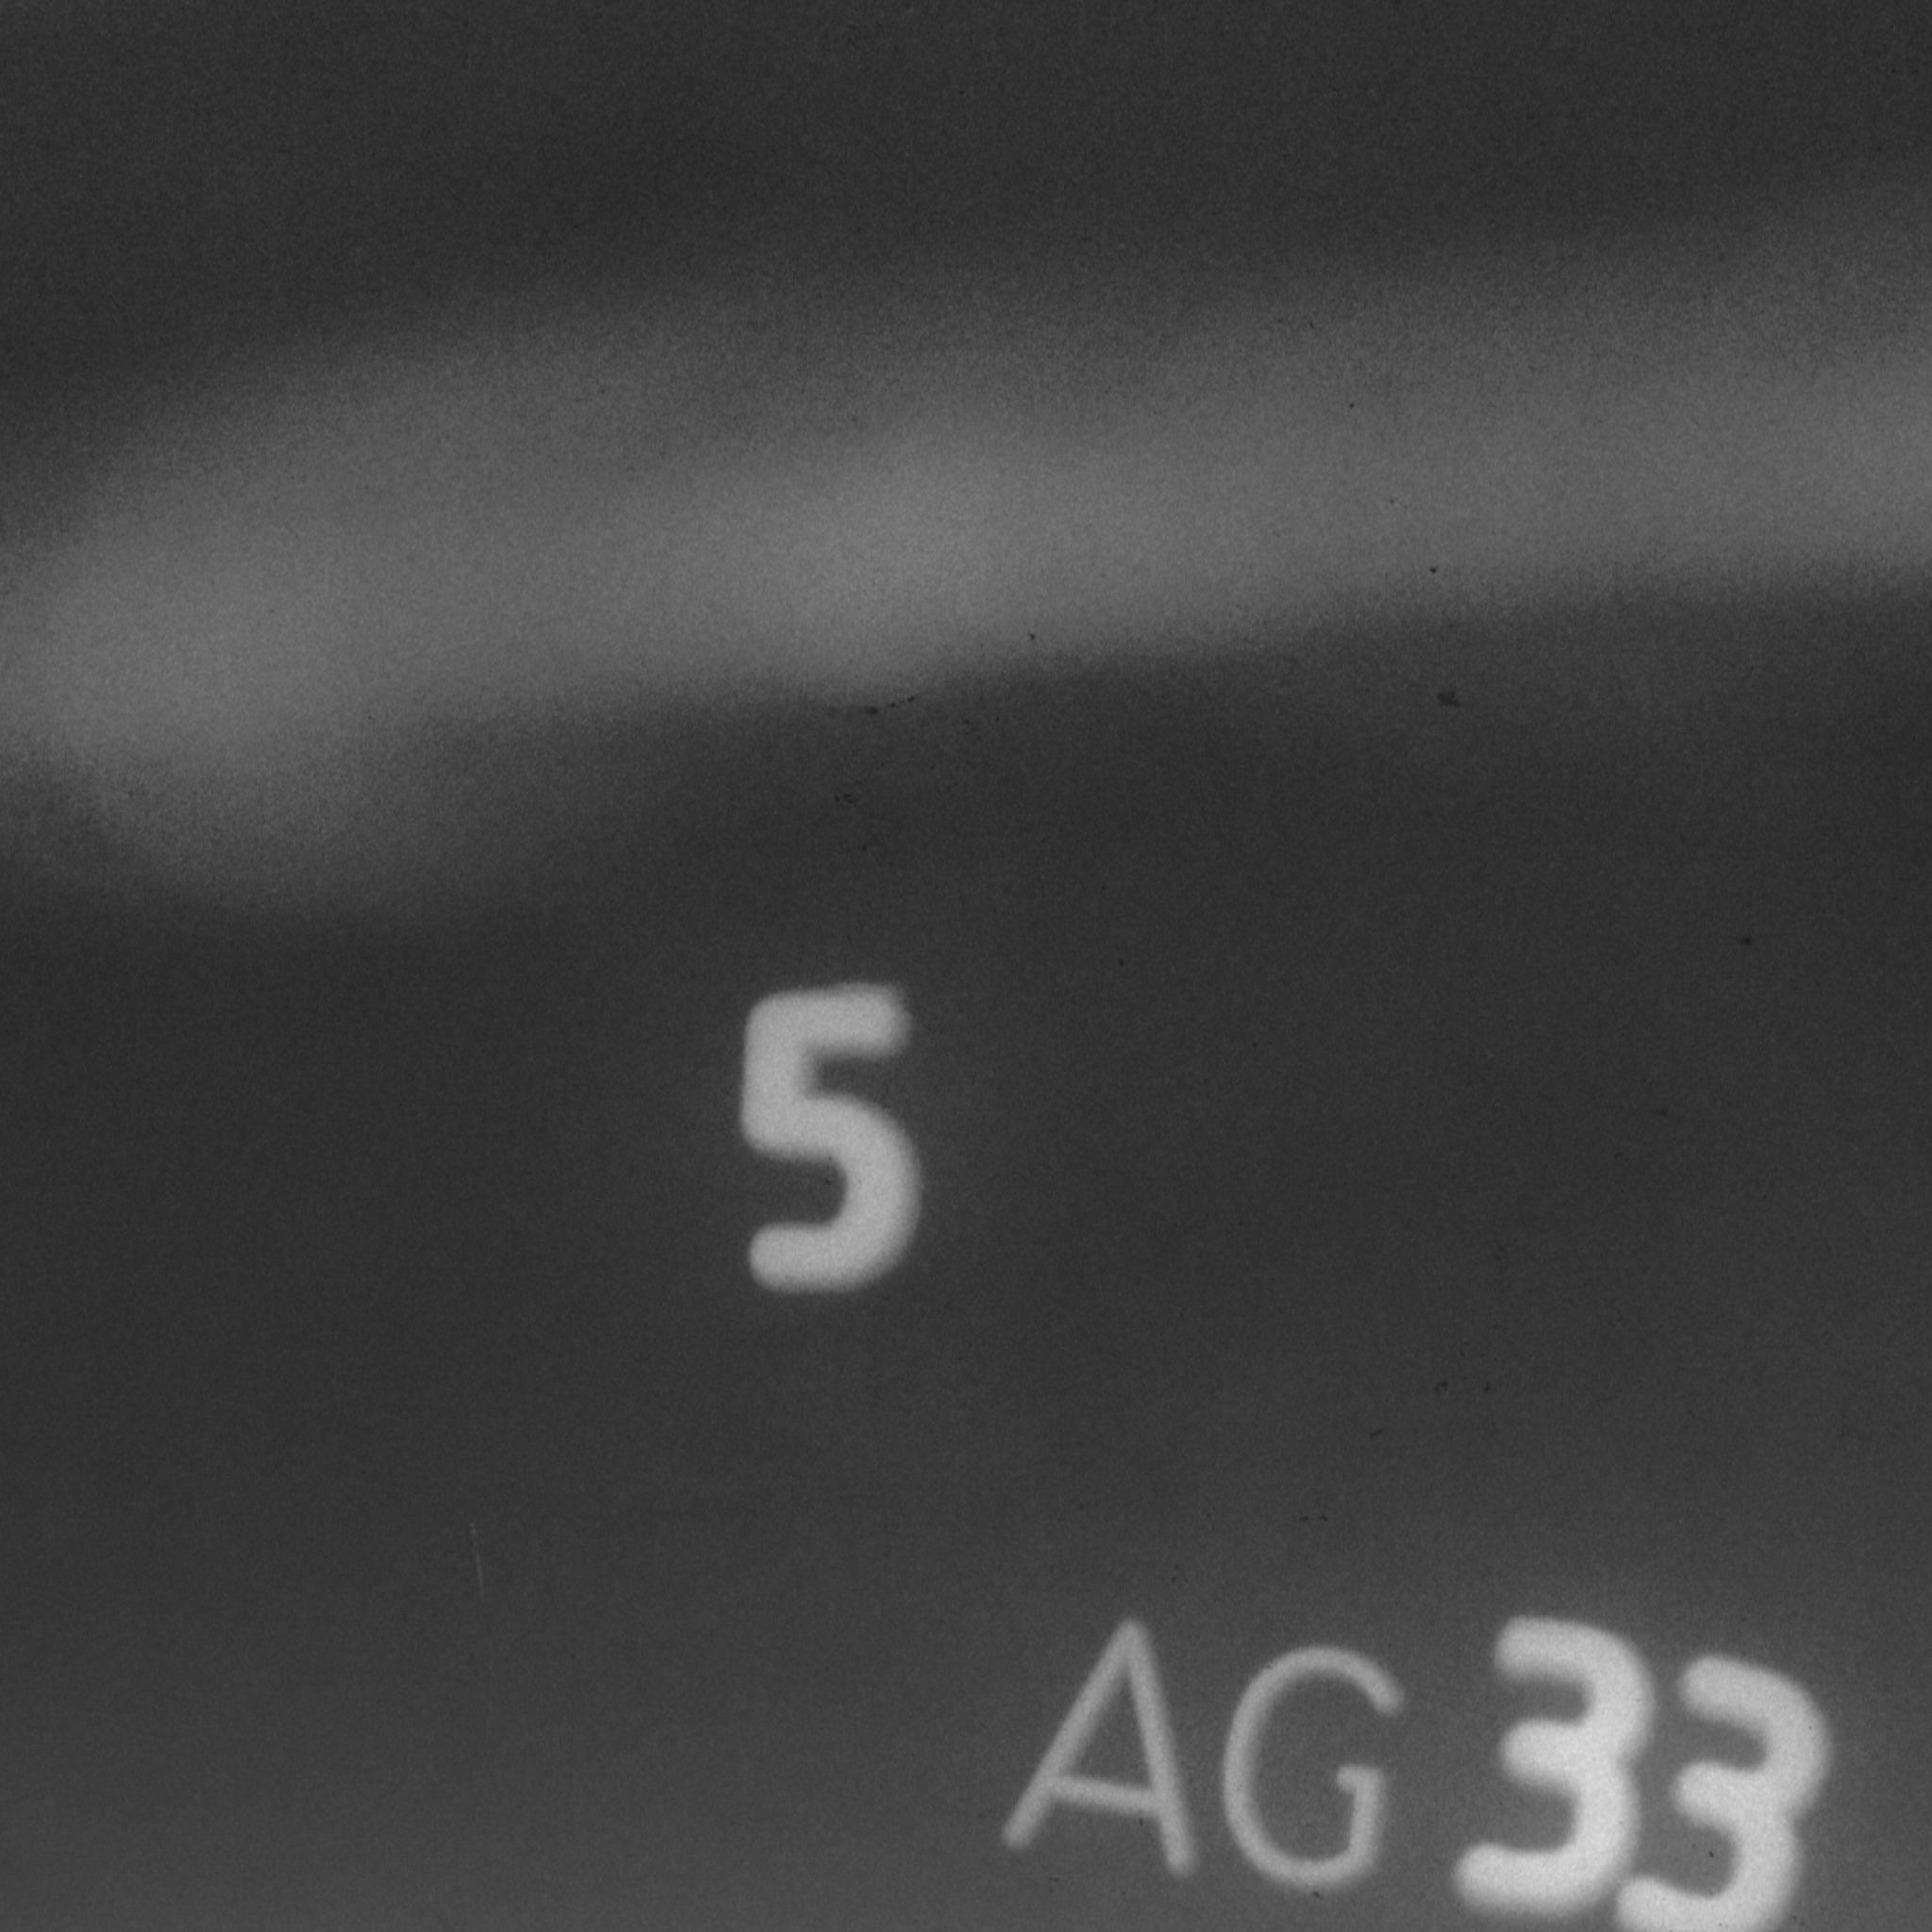PO: (1714, 908, 1785, 975), (1092, 939, 1146, 991), (1081, 865, 1129, 909), (1428, 674, 1472, 717), (1645, 1097, 1679, 1127), (1299, 311, 1332, 341), (1017, 623, 1049, 651), (842, 402, 869, 435), (849, 835, 879, 863), (1603, 1141, 1631, 1171), (1267, 310, 1295, 338), (1422, 556, 1447, 584), (591, 377, 614, 405), (1382, 488, 1405, 511), (1341, 393, 1362, 416)
Solda Ruim: (835, 676, 936, 738), (814, 770, 888, 819), (952, 706, 1014, 755)
